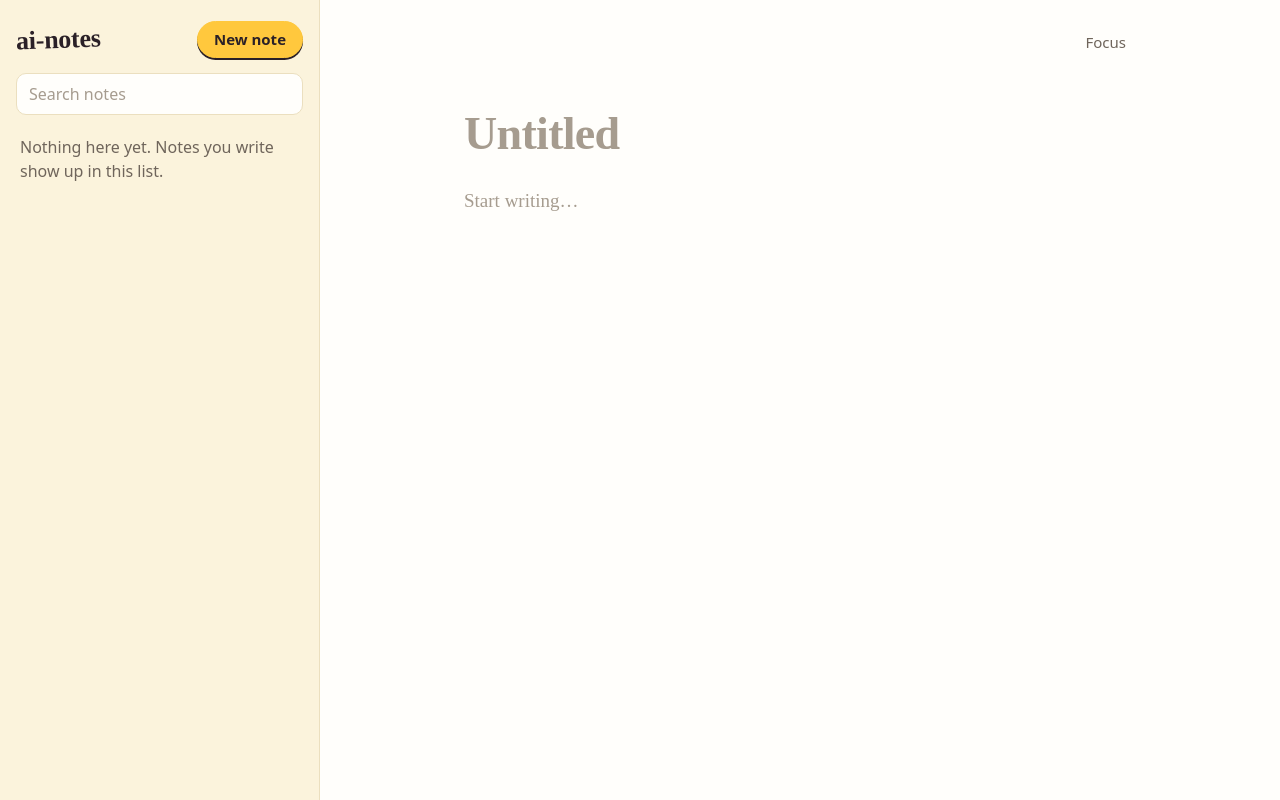
it: writing › saves a new note by itself and lists it
Expected: the text "Nothing here yet. Notes you write show up in this list." is shown, [20,135,299,183]
In the field labelled "title": (800,134) [464,108,1136,161], type "Groceries"
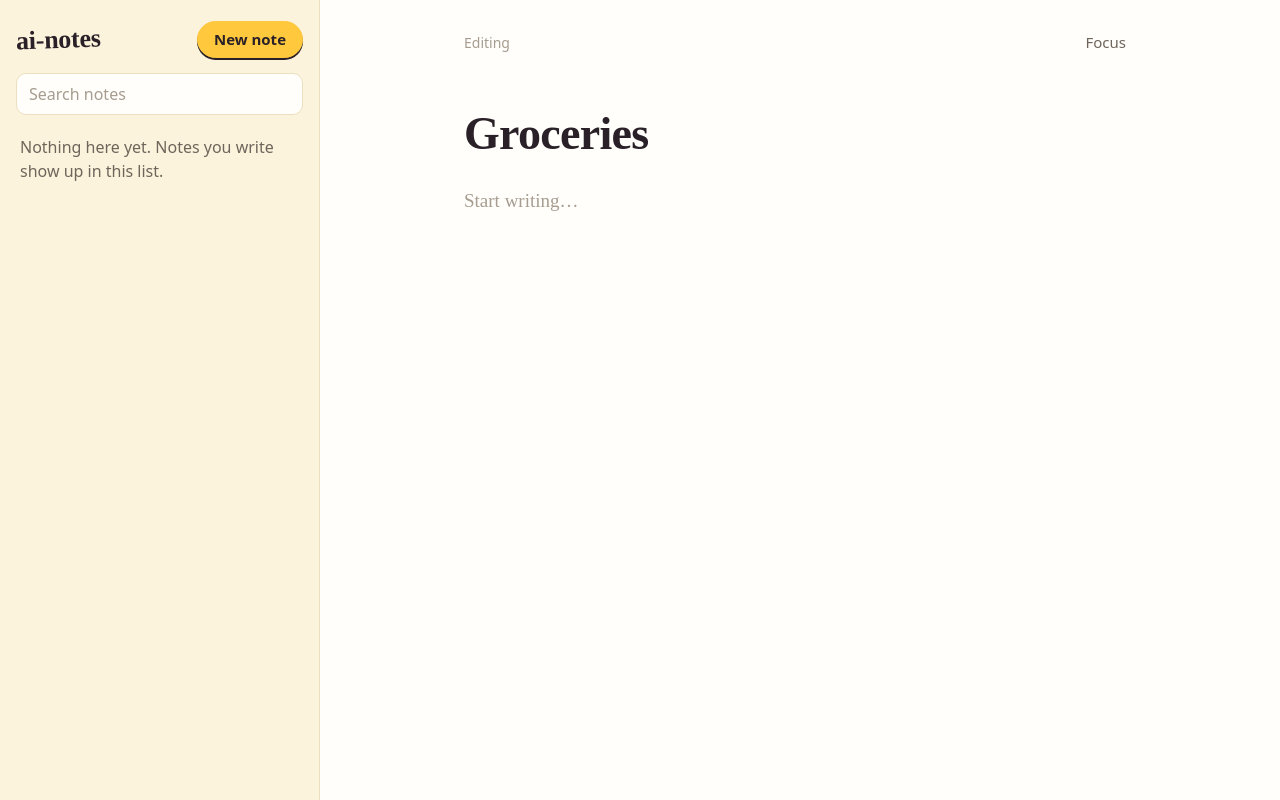
In the text box named "Note": (778,233) [464,185,1091,282], type "Milk, eggs"
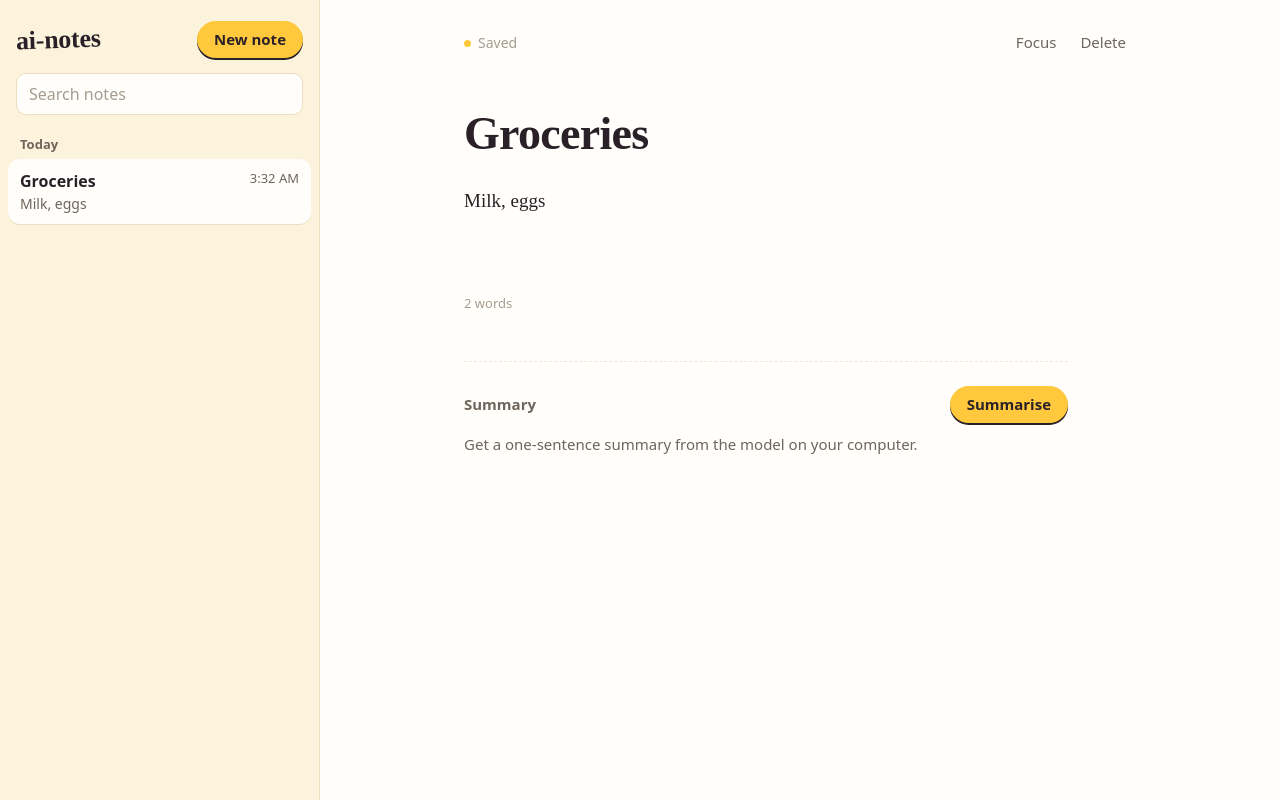
Expected: the link "Groceries 3:32 AM Milk, eggs" is shown, [8,158,311,224]
Expected: the text "Saved" is shown, [464,32,517,52]
